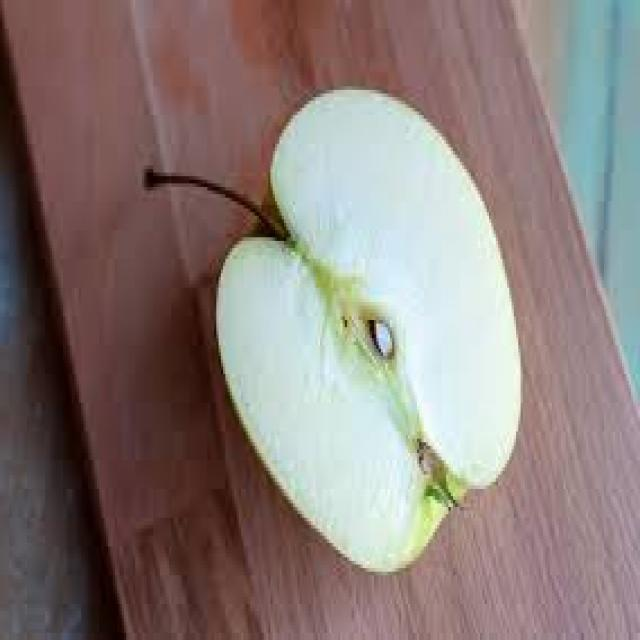Apple: (154, 78, 524, 578)
